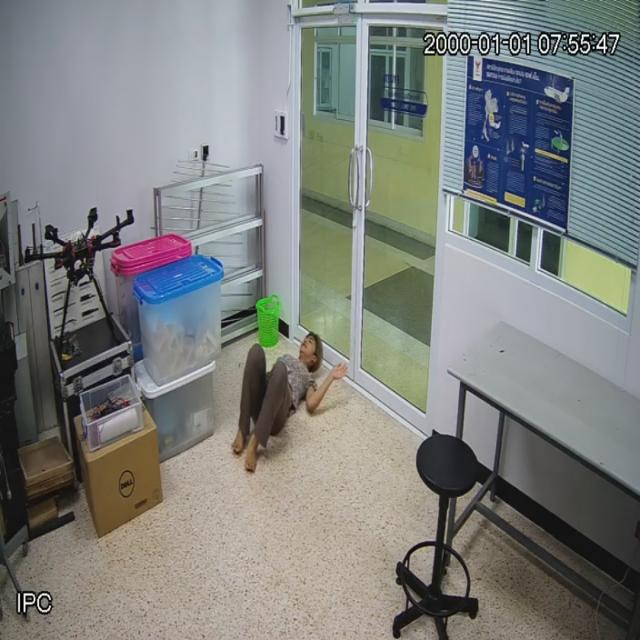fall: (238, 328, 340, 469)
